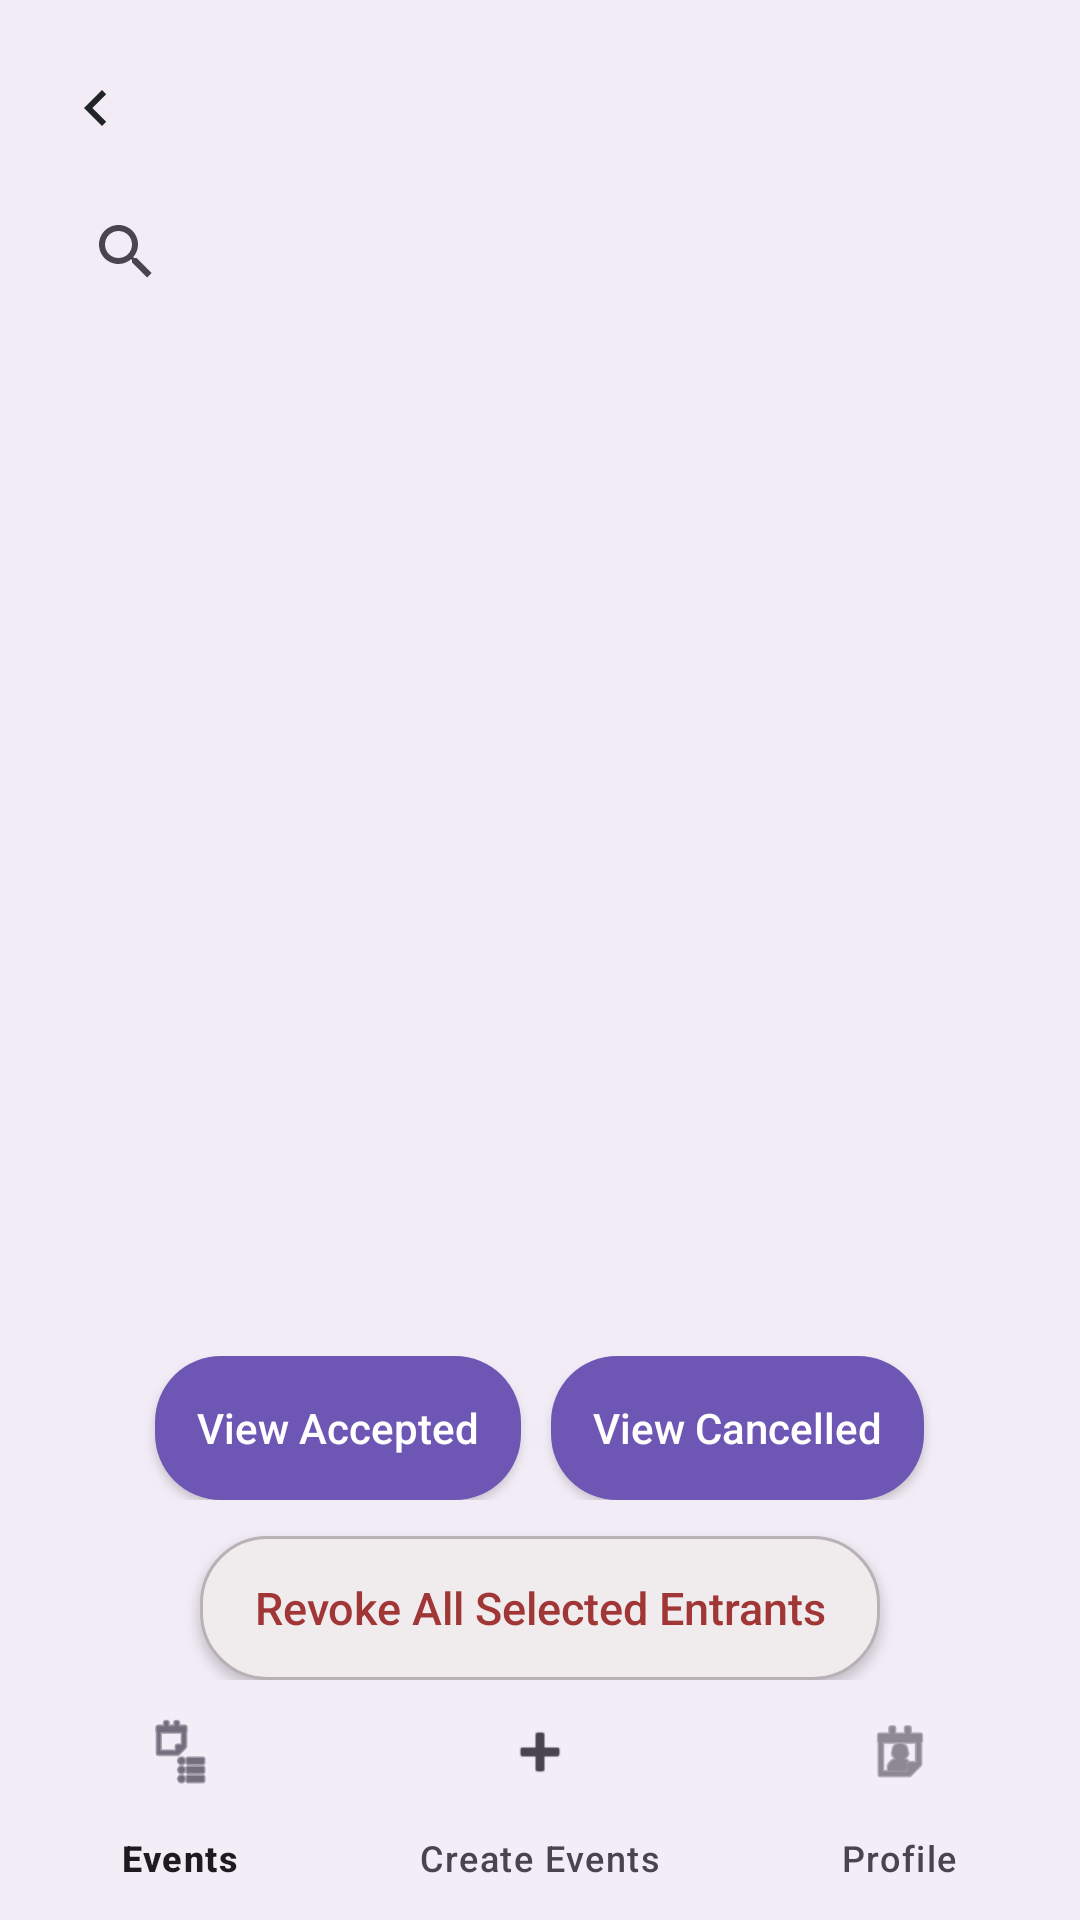

Icons on this 1080w x 1920h Android screen, each with the point to tap as point (x, y):
Back: point (95, 108)
